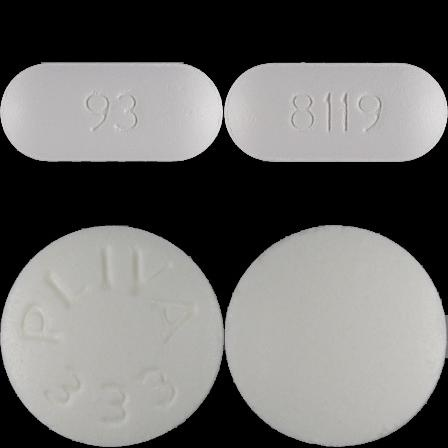55289-168: (0, 0, 224, 224)
